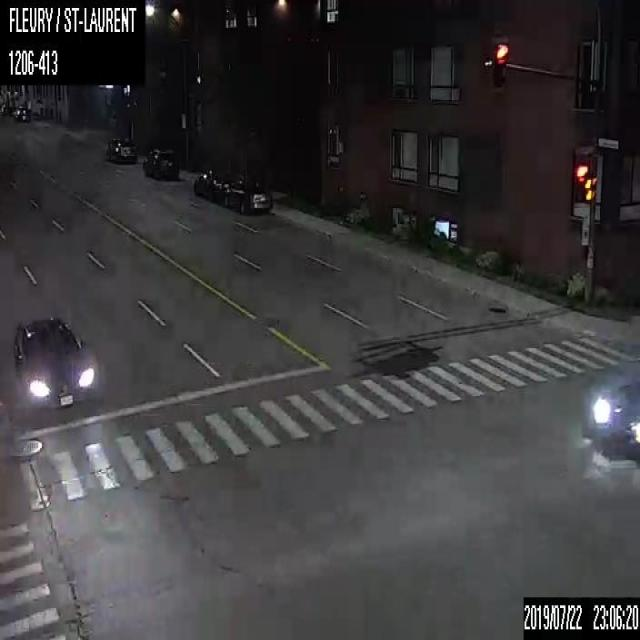vehicle: (11, 315, 94, 409), (586, 381, 639, 460), (222, 176, 272, 212), (142, 146, 178, 178), (193, 169, 225, 203), (105, 136, 136, 161), (14, 105, 29, 120)
